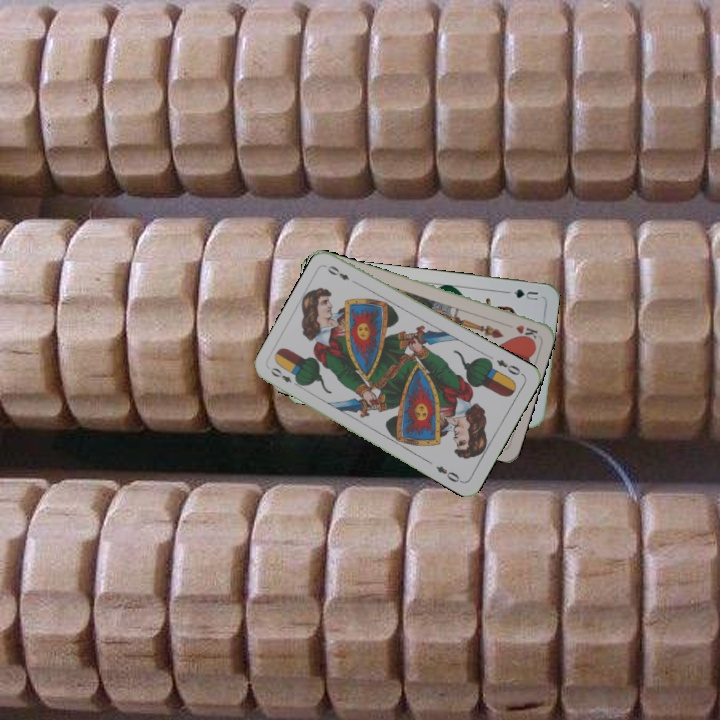EO: (266, 363, 303, 390), (492, 355, 526, 378)
GU: (509, 285, 541, 303)
HK: (500, 319, 540, 340)
